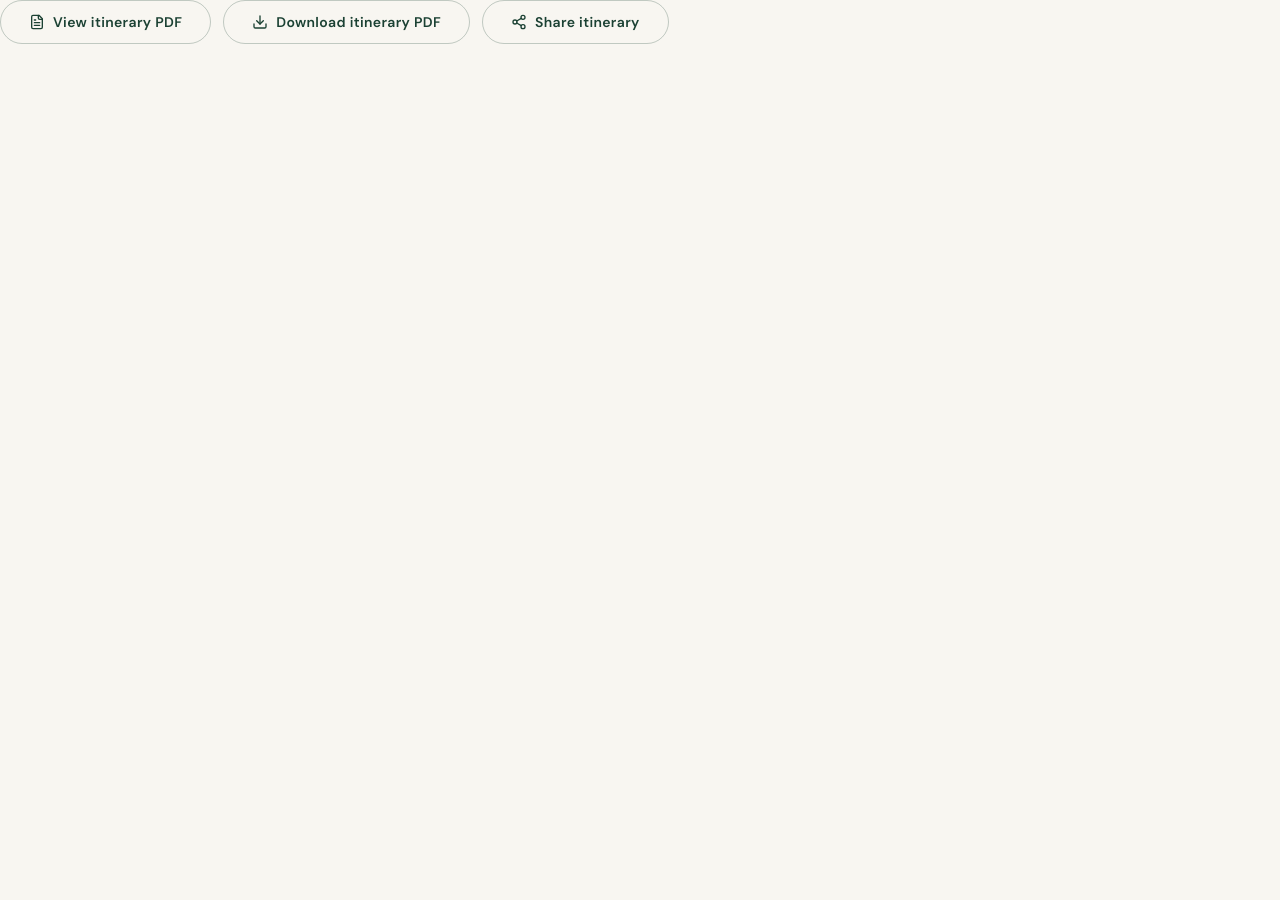
Test: PDF-page sharing › offers the original adventure link even when PDF preparation fails
The width and height of the screenshot is (1280, 900).
Click the button "Share itinerary" at (575, 22), box [482,0,669,44]
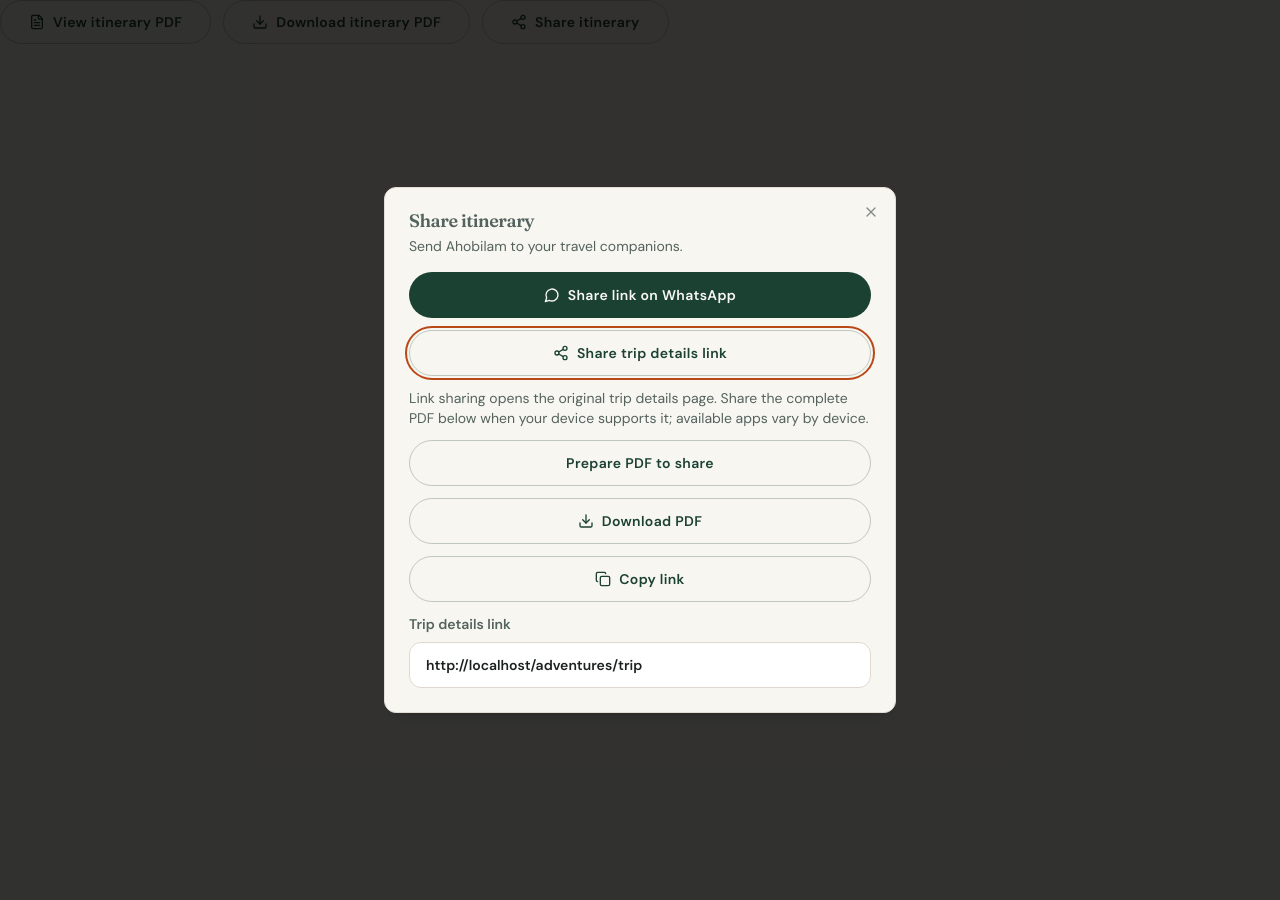
Click the button "Prepare PDF to share" at (640, 463), box [409,440,871,486]
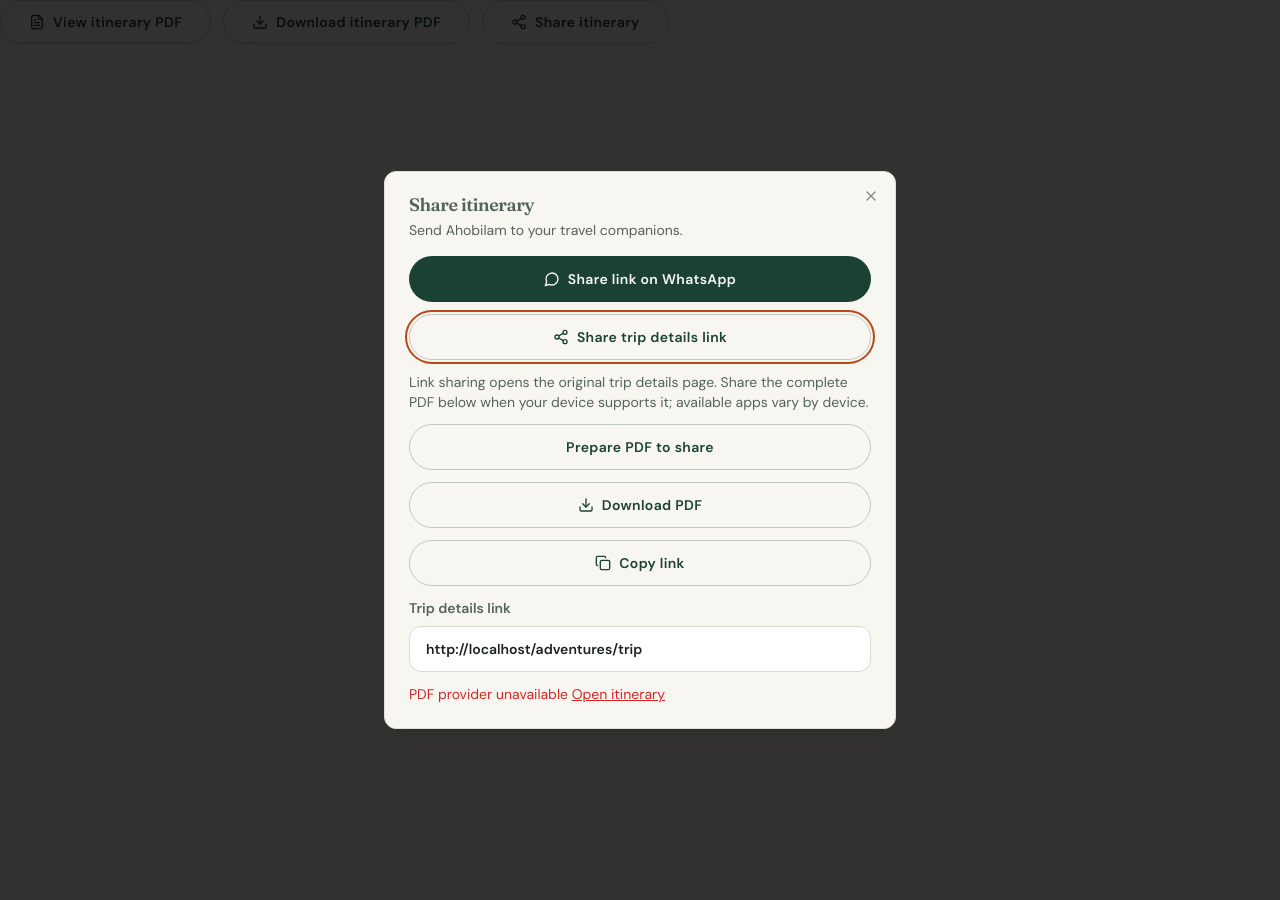
Check: the text "PDF provider unavailable Open itinerary" is shown, box [409,685,665,703]
